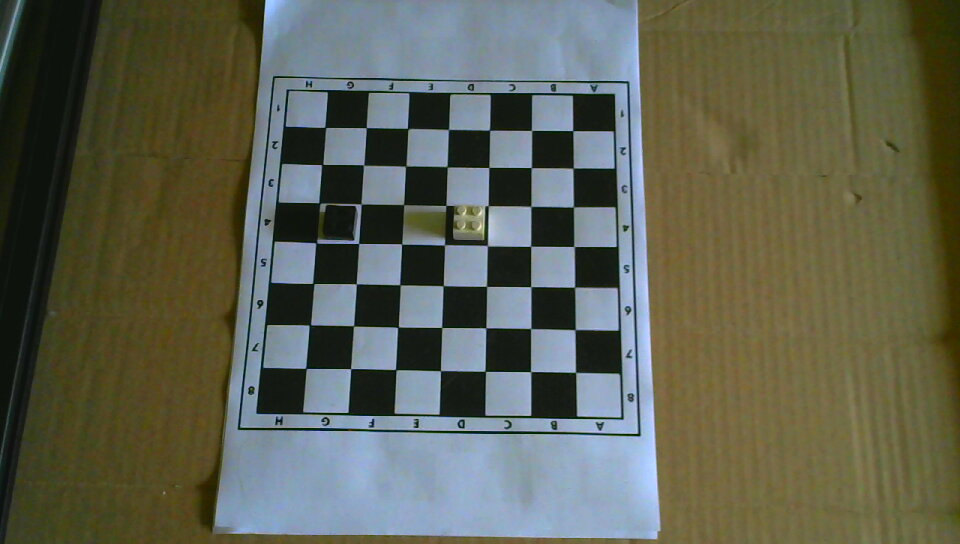bp: (323, 203, 359, 240)
wp: (452, 203, 486, 241)
